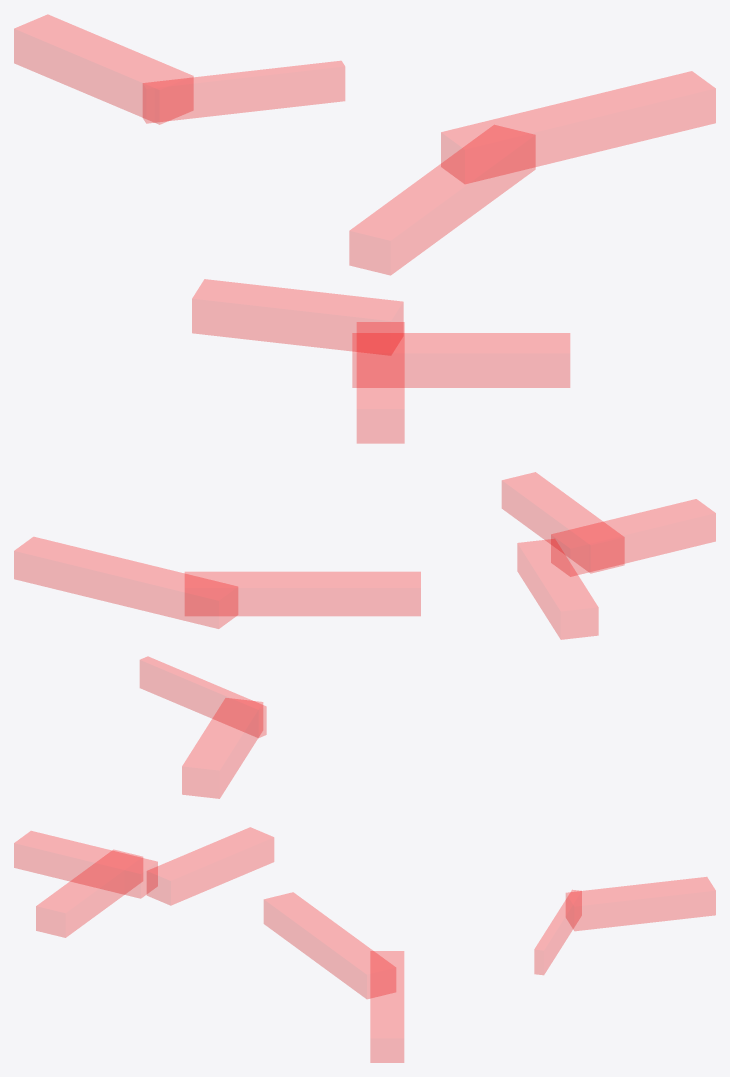
Rendered from s02a_td1-obstacles.glb.
3 views of the same model, one above another, from view 1: azimuth 30°, elevation 25°; view 2: azimuth 150°, elevation 25°; view 3: azimuth 270°, elevation 25° (orthographic). The views are drawn at different scales.
Parts seen in each view (by area): view 1: boulder-colonly (×7); view 2: boulder-colonly (×7); view 3: boulder-colonly (×7).
Part boxes in pixels (bbox=[...]): boulder-colonly (×7): bbox=[14, 14, 715, 443]; boulder-colonly (×7): bbox=[14, 472, 715, 798]; boulder-colonly (×7): bbox=[14, 827, 715, 1062].
Size of the model in its own units: 29.31 by 1.6 by 41.2.
